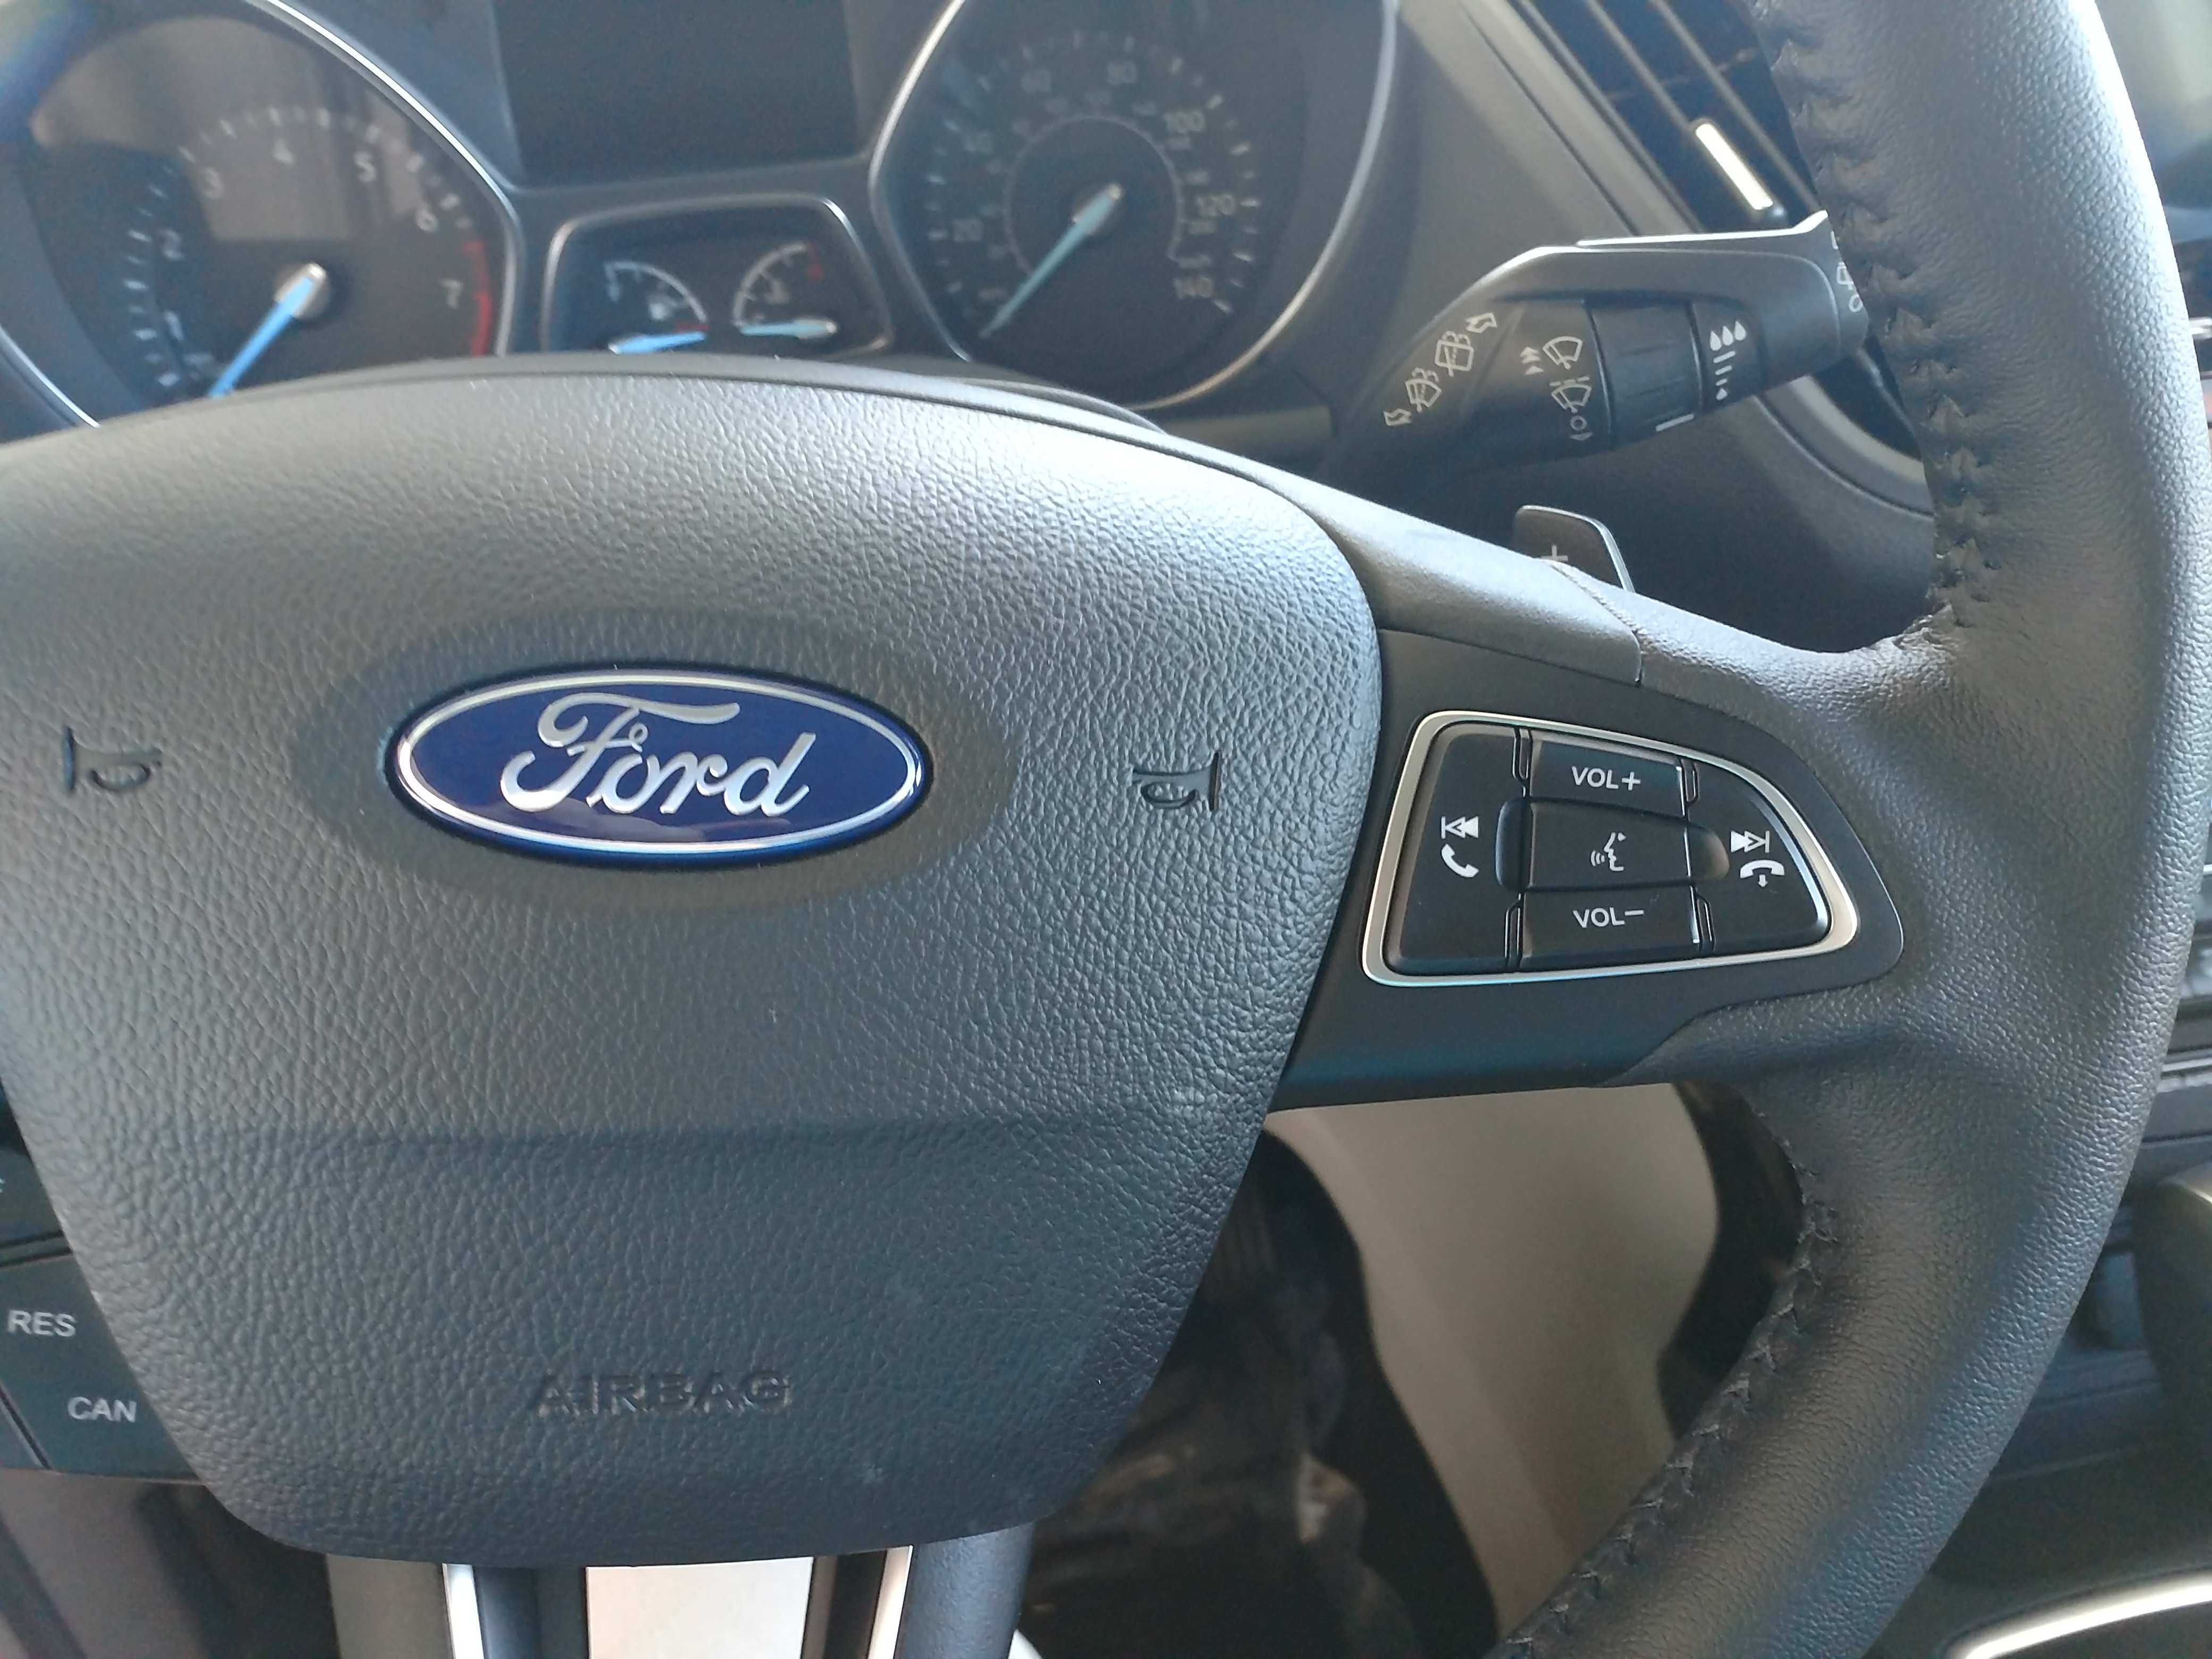Ford: (376, 652, 961, 885)
